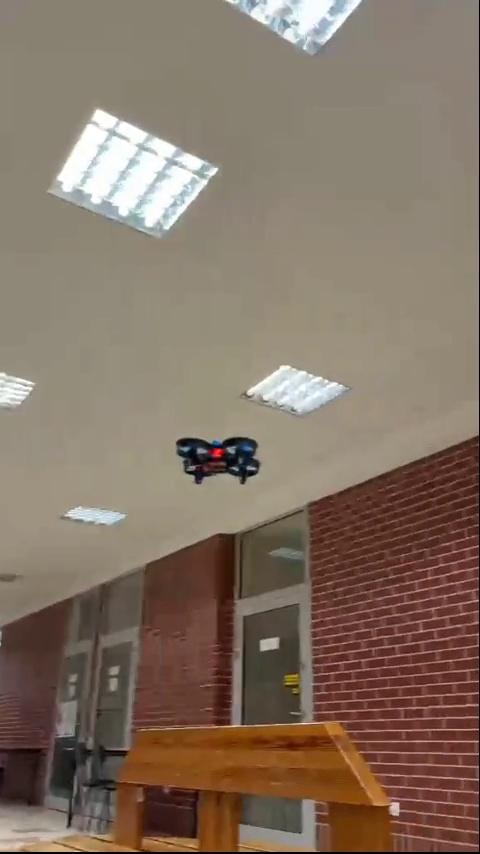drone: (173, 432, 258, 483)
